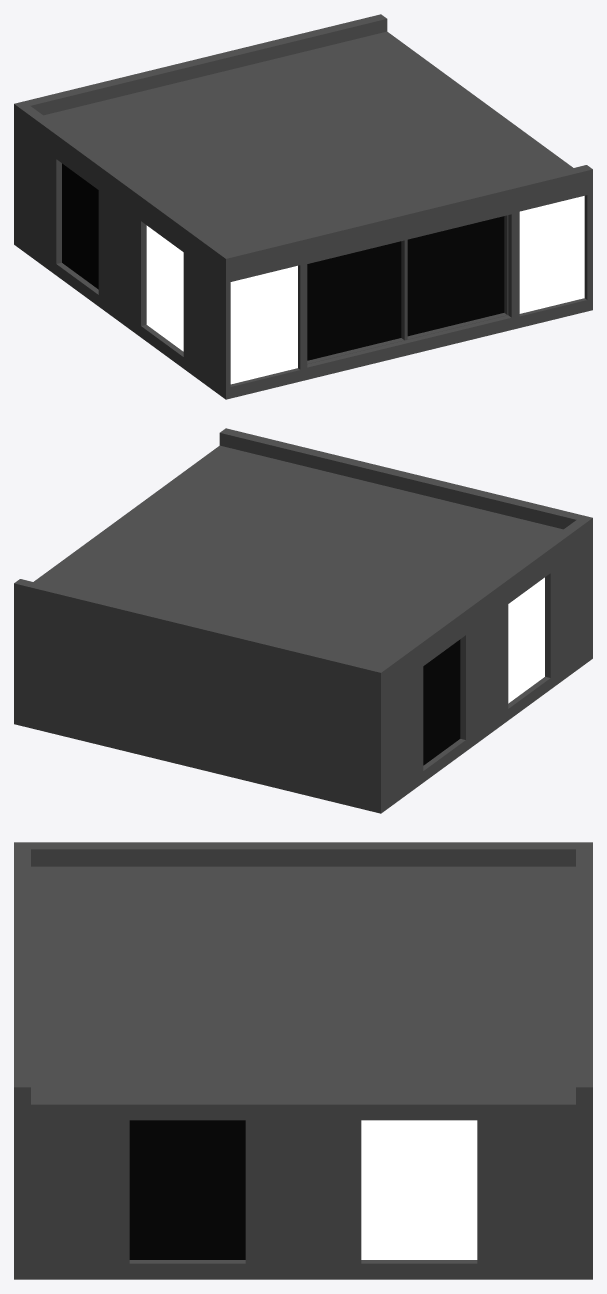
File: 30x30x10Haut2.fbx
3 views of the same model, one above another, from view 1: azimuth 30°, elevation 25°; view 2: azimuth 150°, elevation 25°; view 3: azimuth 270°, elevation 25° (orthographic). The views are drawn at different scales.
Visible parts, largest first — view 1: Cube.015; view 2: Cube.015; view 3: Cube.015.
Boxes of the visible parts, bbox=[...] form: Cube.015: bbox=[14, 14, 592, 399]; Cube.015: bbox=[14, 428, 592, 813]; Cube.015: bbox=[14, 842, 592, 1279].
Size of the model in its own units: 3000 by 1100 by 3000.
